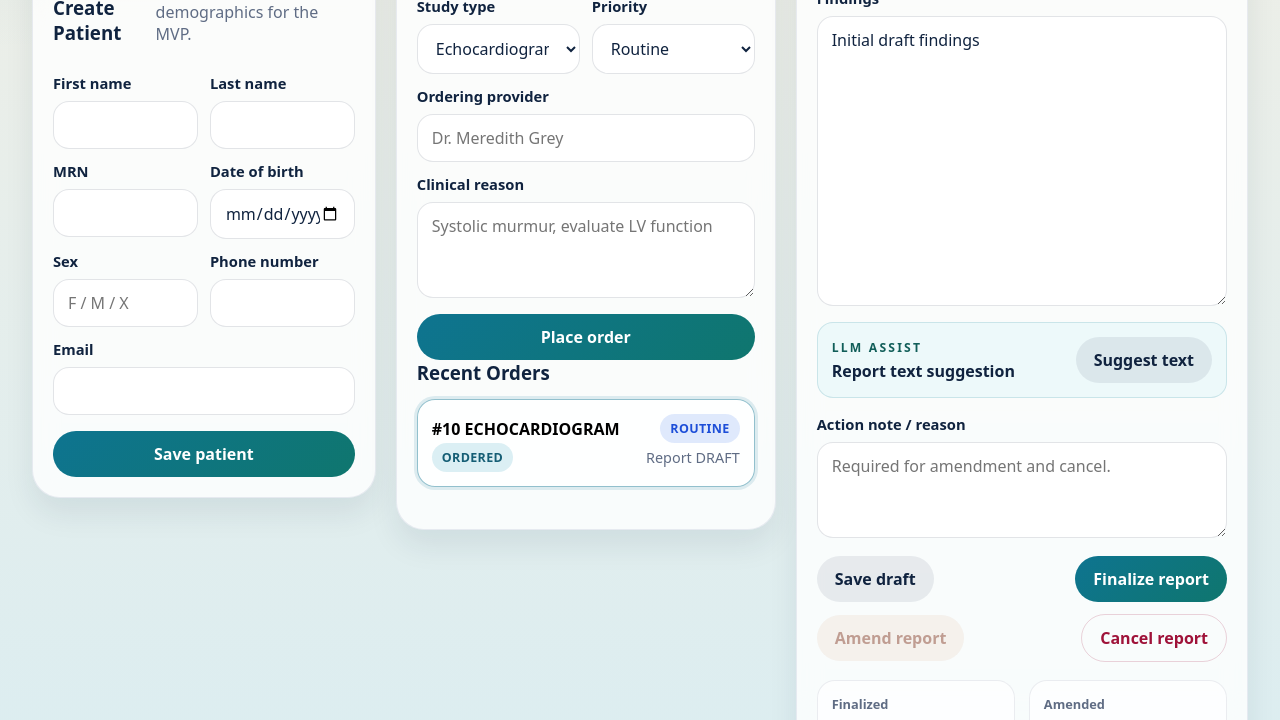
App › generates and applies an assistant report suggestion
This screenshot has width=1280, height=720.
(page scrolled)
Expected: the text box showing "Initial draft findings" is shown, top-left (817, 16), bottom-right (1227, 306)
What coordinates should you click on to do the following:
click the button with test id "report-assist-button"
I would click on:
 (1144, 360)
Its box is top-left (1076, 337), bottom-right (1212, 383).
(page scrolled)
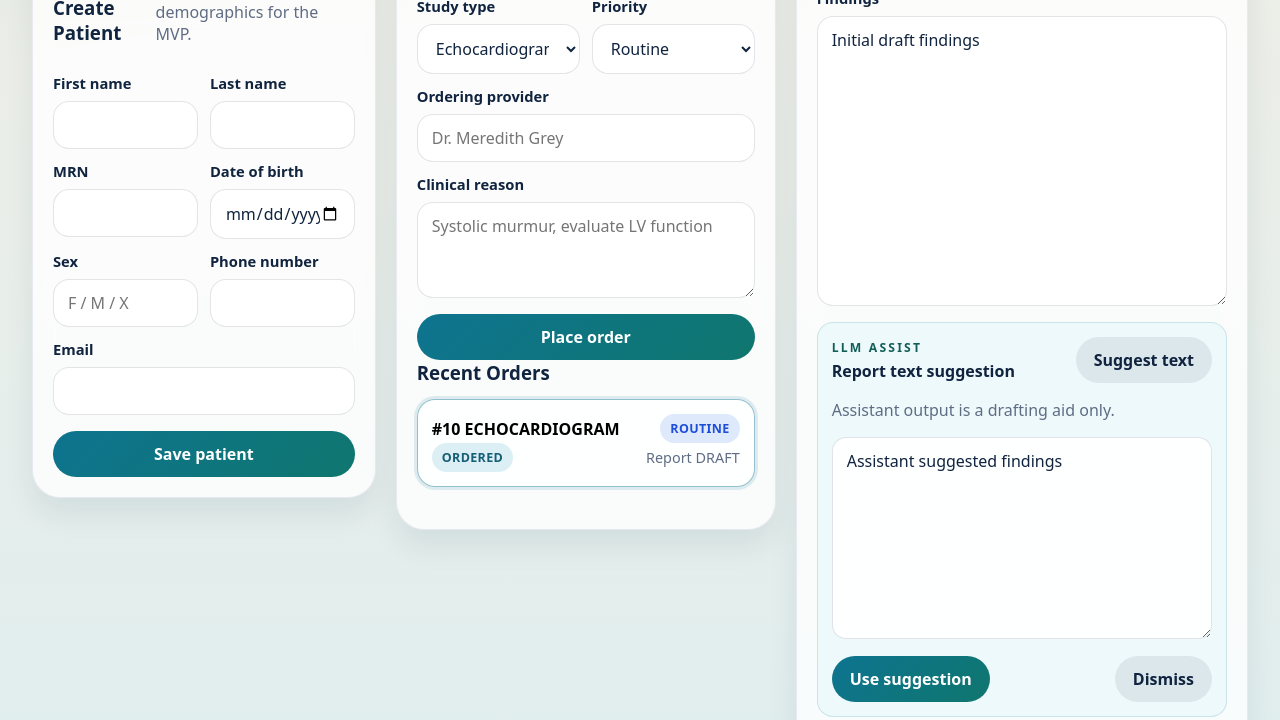
Now the text box showing "Assistant suggested findings" is shown, box top-left (832, 437), bottom-right (1212, 639)
What coordinates should you click on to do the following:
click the button with test id "apply-assist-suggestion-button"
I would click on:
 (911, 679)
Its box is top-left (832, 656), bottom-right (990, 702).
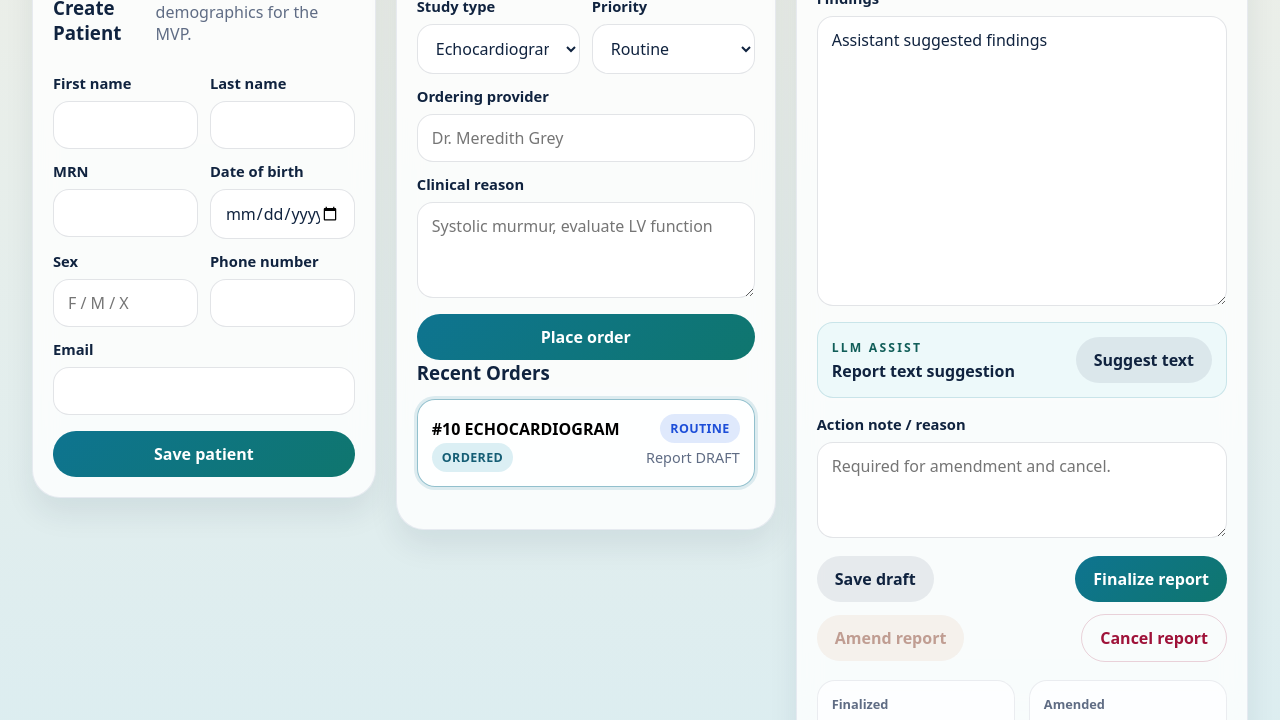
Now the text box with test id "report-findings-input" holds "Assistant suggested findings", box top-left (817, 16), bottom-right (1227, 306)
Now the text box with test id "report-assist-suggestion" is gone
